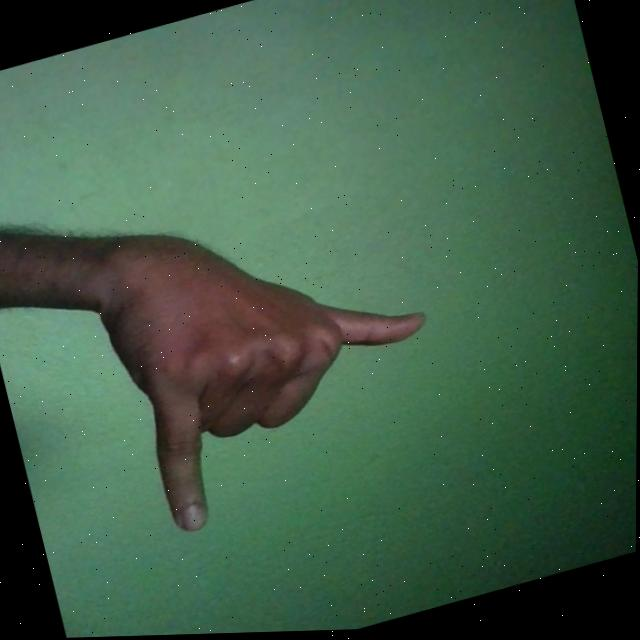Call Me: (80, 163, 463, 545)
